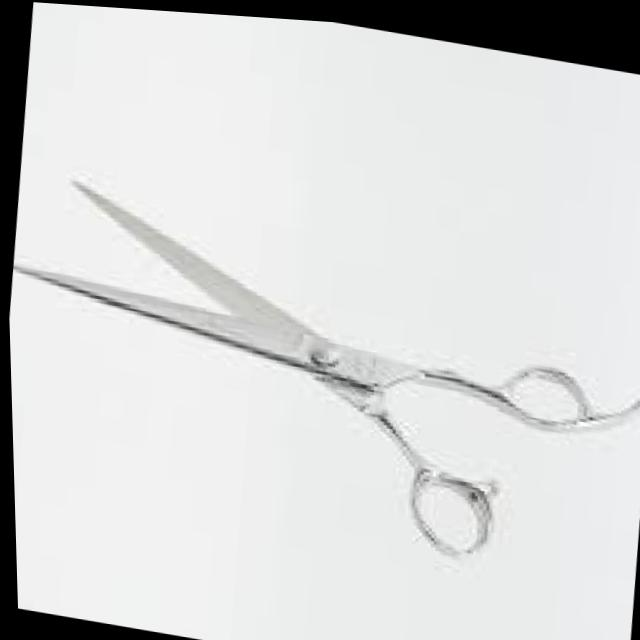scissor: (4, 170, 640, 577)
